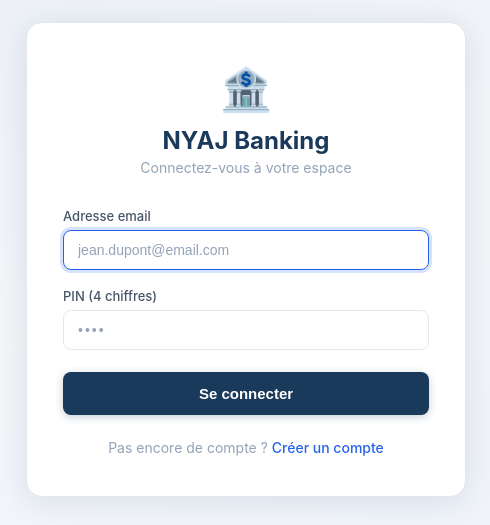
it: LoginPage — connexion échouée › désactive le bouton pendant le chargement
In the field with placeholder "jean.dupont@email.com": (246, 250) x1=63 y1=230 x2=429 y2=270, type "jean@test.com"
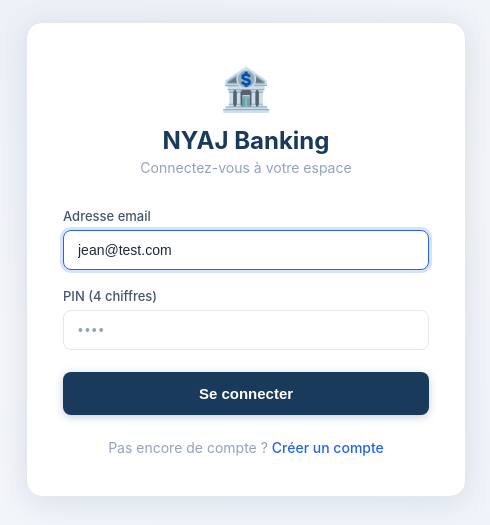
In the password field with placeholder "••••": (246, 330) x1=63 y1=310 x2=429 y2=350, type "1234"
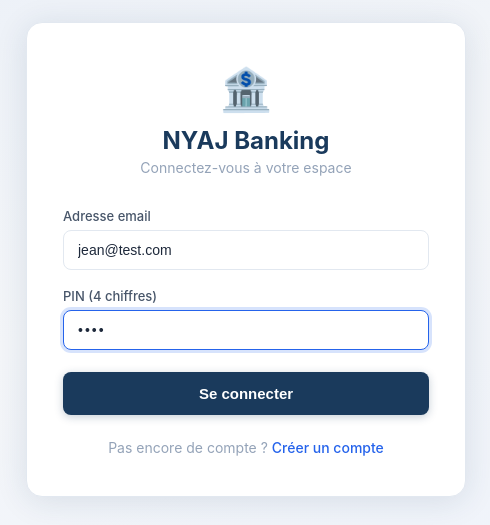
Click the button "Se connecter": (246, 393) x1=63 y1=372 x2=429 y2=414
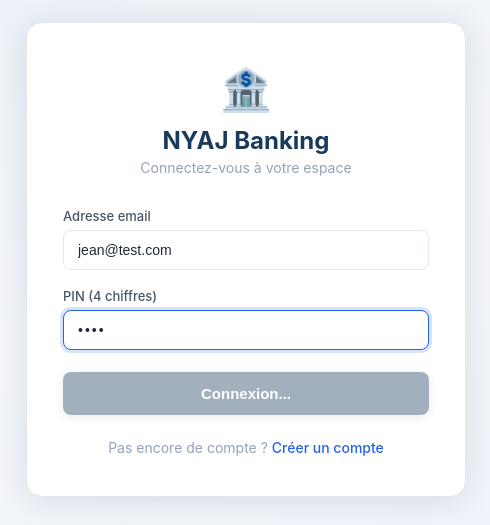
Now the button named "se connecter" is disabled, box x1=63 y1=372 x2=429 y2=414
